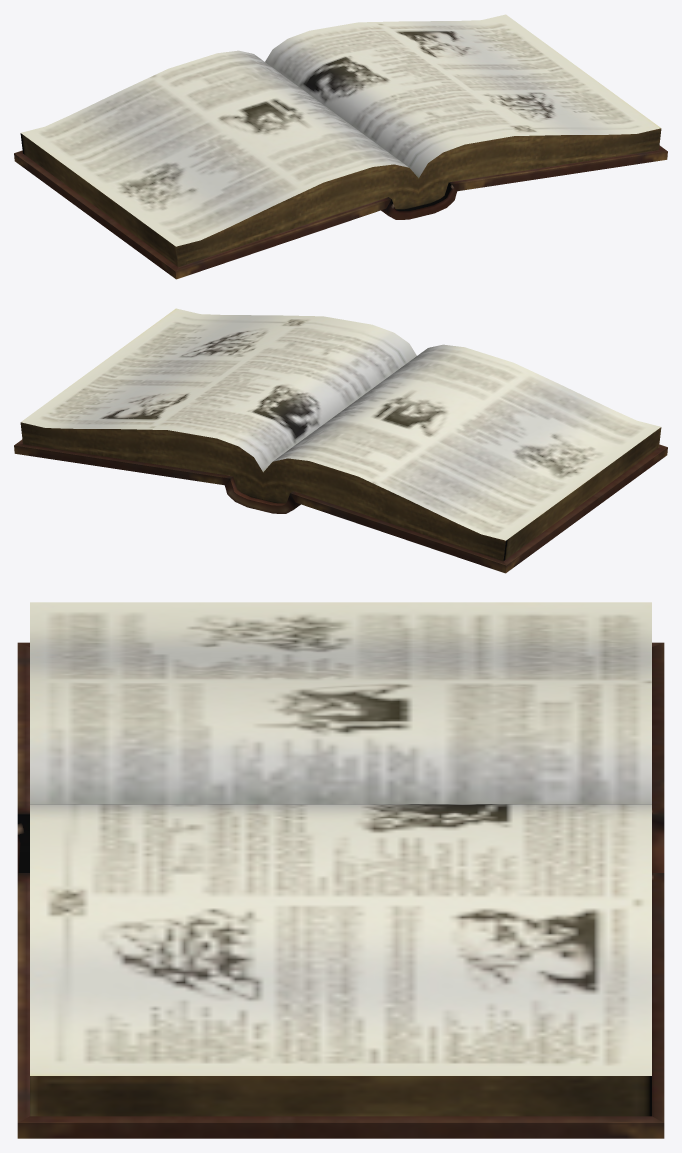
The model's file is SM_Books_Opened_01.FBX.
3 views of the same model, one above another, from view 1: azimuth 30°, elevation 25°; view 2: azimuth 150°, elevation 25°; view 3: azimuth 270°, elevation 25° (orthographic). The views are drawn at different scales.
Parts seen in each view (by area): view 1: SM_Books_Opened_01_LOD0; view 2: SM_Books_Opened_01_LOD0; view 3: SM_Books_Opened_01_LOD0.
Part boxes in pixels (x1=…): SM_Books_Opened_01_LOD0: x1=14, y1=14, x2=667, y2=279; SM_Books_Opened_01_LOD0: x1=14, y1=308, x2=667, y2=573; SM_Books_Opened_01_LOD0: x1=17, y1=602, x2=664, y2=1138.
Size of what is drawn, in the model's own units: 63.29 by 7.56 by 35.99.
1 material, 1 textured.
